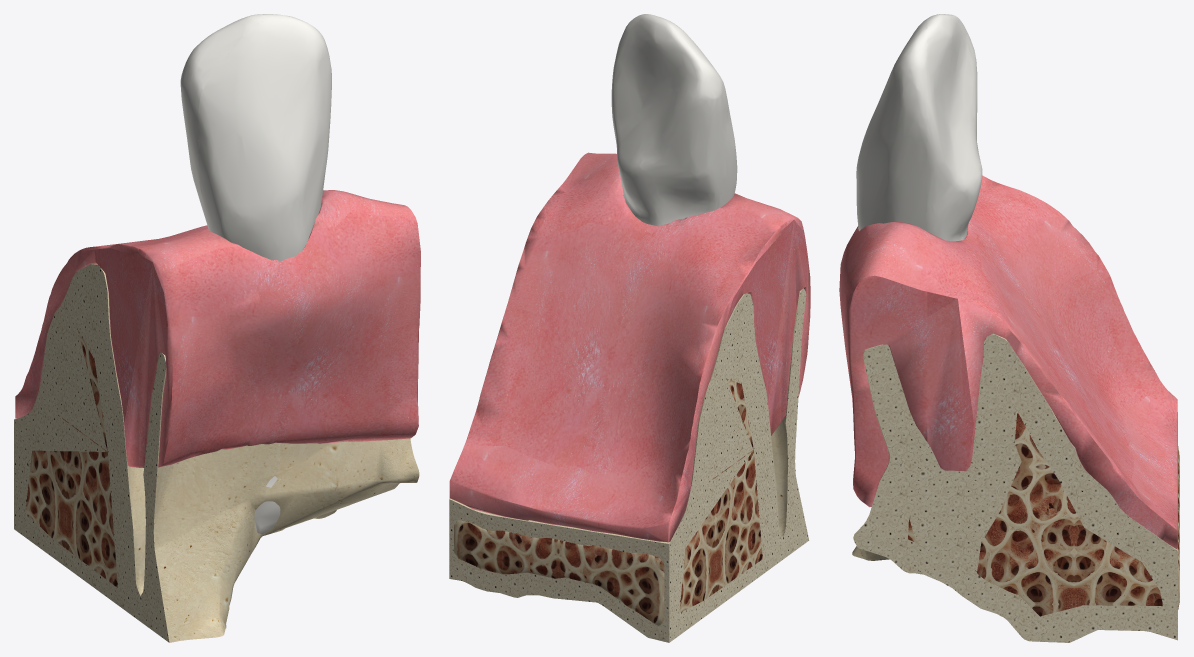
3 views of the same model, side by side, from view 1: azimuth 30°, elevation 25°; view 2: azimuth 150°, elevation 25°; view 3: azimuth 270°, elevation 25° (orthographic). The views are drawn at different scales.
Parts seen in each view (by area): view 1: gingiva_b, kompakta_b, schmelz_b, kompakta_a, spongiosa_a, gingiva_a, schmelz_a, lamina_dura_b; view 2: gingiva_a, kompakta_a, schmelz_a, spongiosa_a, gingiva_b, kompakta_b, schmelz_b; view 3: gingiva_a, kompakta_a, spongiosa_a, gingiva_b, schmelz_a, schmelz_b, kompakta_b.
Boxes of the visible parts, <box> form: gingiva_b: <box>138,190,420,467</box>; kompakta_b: <box>138,352,419,642</box>; schmelz_b: <box>198,15,331,261</box>; kompakta_a: <box>14,264,336,619</box>; spongiosa_a: <box>25,330,117,587</box>; gingiva_a: <box>15,225,208,467</box>; schmelz_a: <box>180,14,282,222</box>; lamina_dura_b: <box>254,476,280,534</box>; gingiva_a: <box>449,174,781,542</box>; kompakta_a: <box>449,293,781,642</box>; schmelz_a: <box>611,15,727,226</box>; spongiosa_a: <box>454,378,762,625</box>; gingiva_b: <box>562,152,810,421</box>; kompakta_b: <box>771,288,809,560</box>; schmelz_b: <box>616,14,737,208</box>; gingiva_a: <box>927,175,1177,549</box>; kompakta_a: <box>927,333,1177,642</box>; spongiosa_a: <box>977,413,1179,616</box>; gingiva_b: <box>839,222,927,507</box>; schmelz_a: <box>927,14,982,241</box>; schmelz_b: <box>856,19,927,230</box>; kompakta_b: <box>852,344,927,575</box>.
Bounding box in the file's own units: 0.015 × 0.0335 × 0.018.
21 materials, 8 textured.
